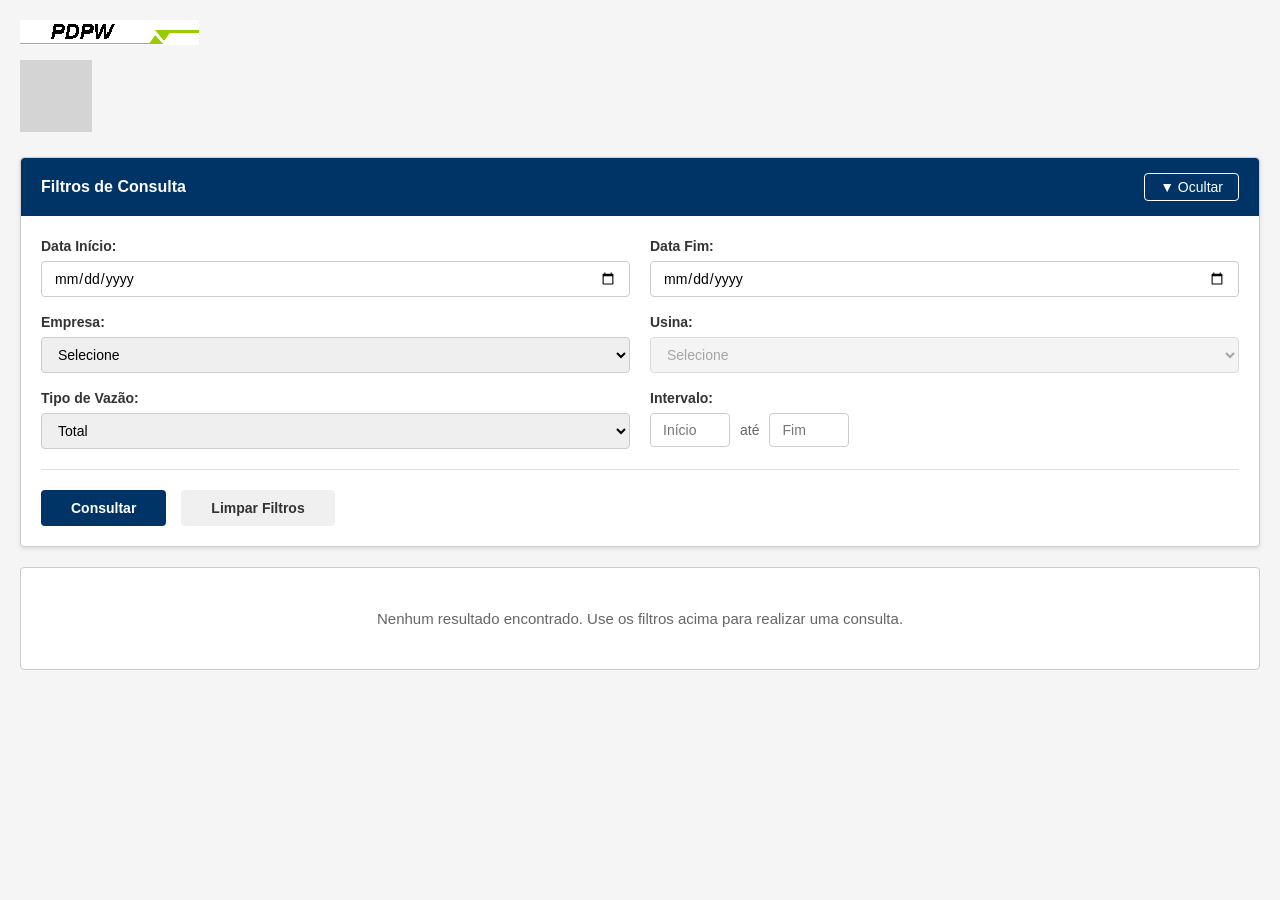
Test: FlowQuery Component › Filtros › deve limpar filtros ao clicar em Limpar
Type "2024-01-15" into the date field below "Data Início:". click: (336, 279)
box: [41,261,630,297]
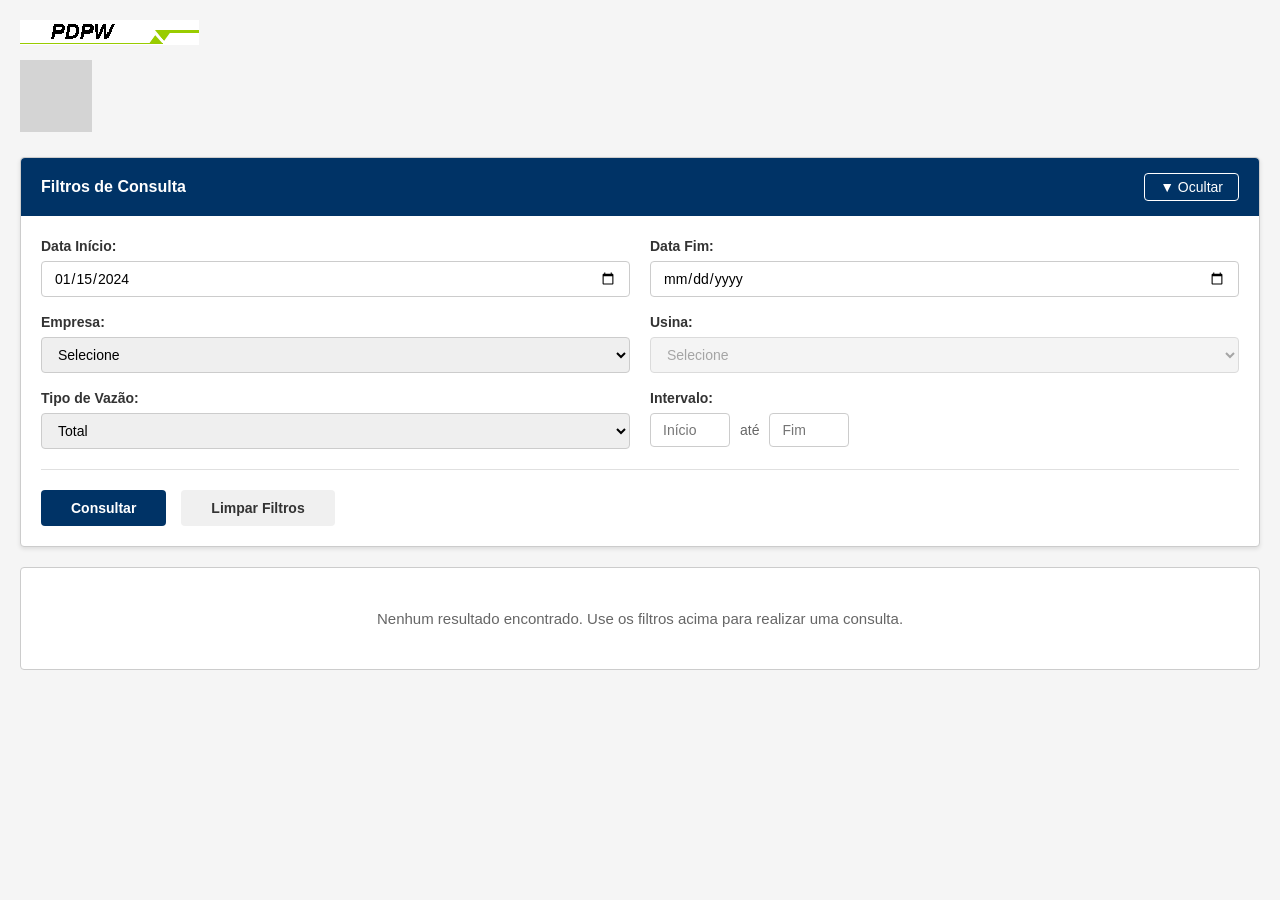
Click the button "Limpar Filtros". click: (258, 508)
box: [181,490,335,526]
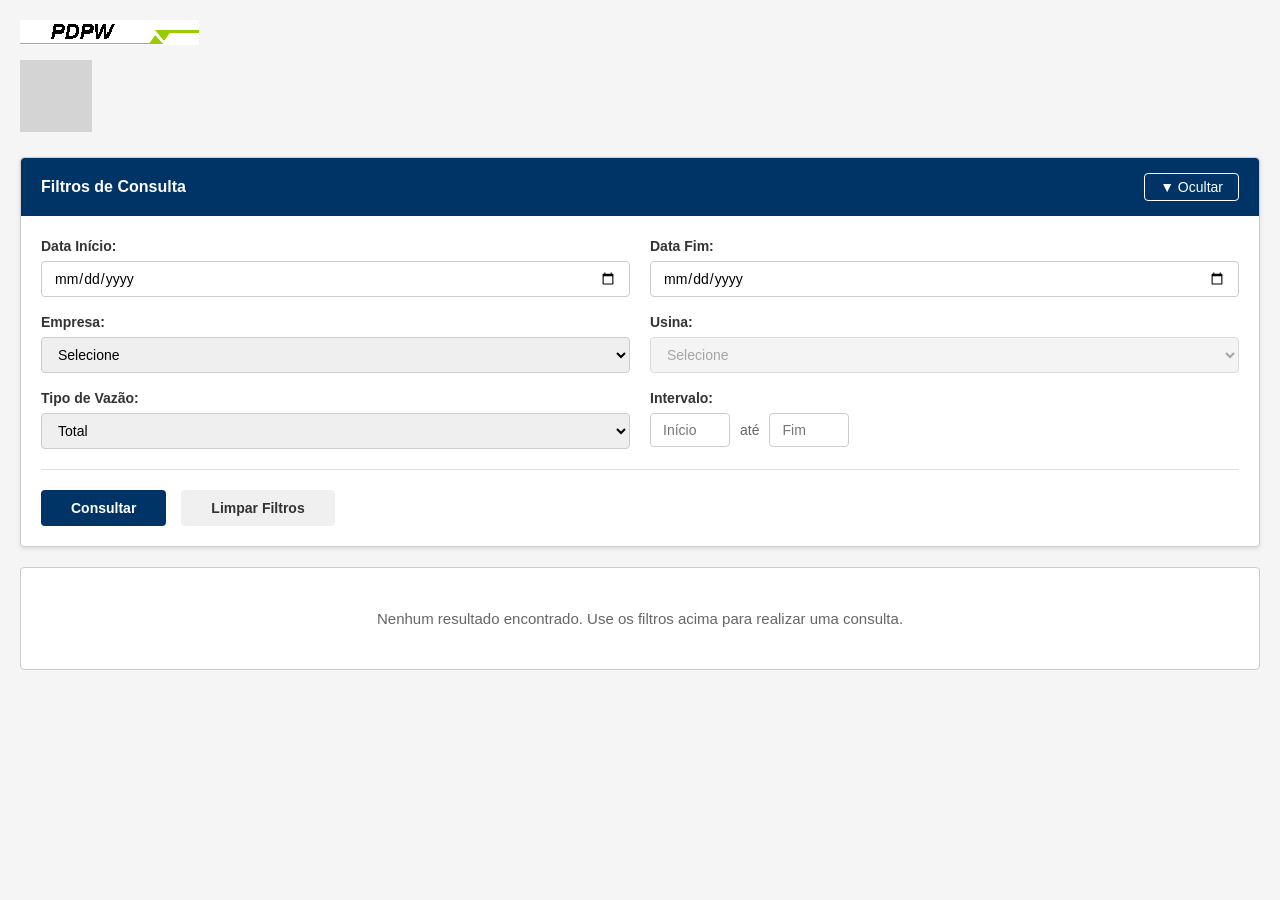
Expected: the date field below "Data Início:" is empty, [41,261,630,297]
